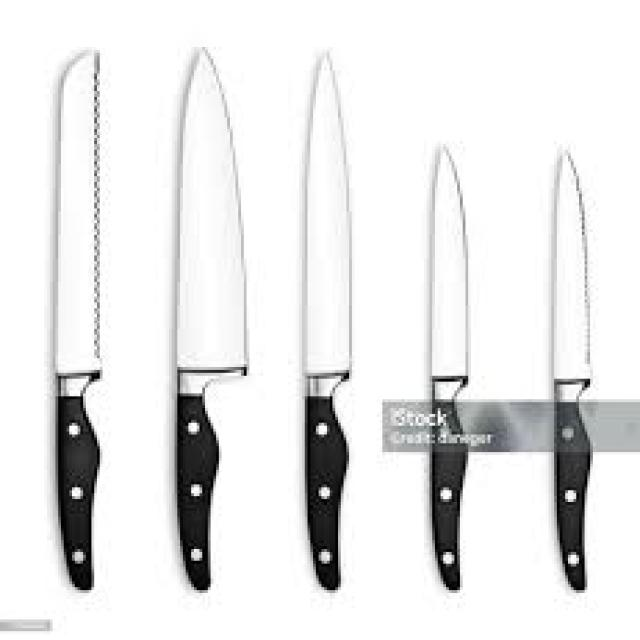Knife: (174, 44, 247, 590), (302, 47, 352, 590), (52, 47, 102, 587), (548, 144, 593, 590), (427, 141, 468, 590)
